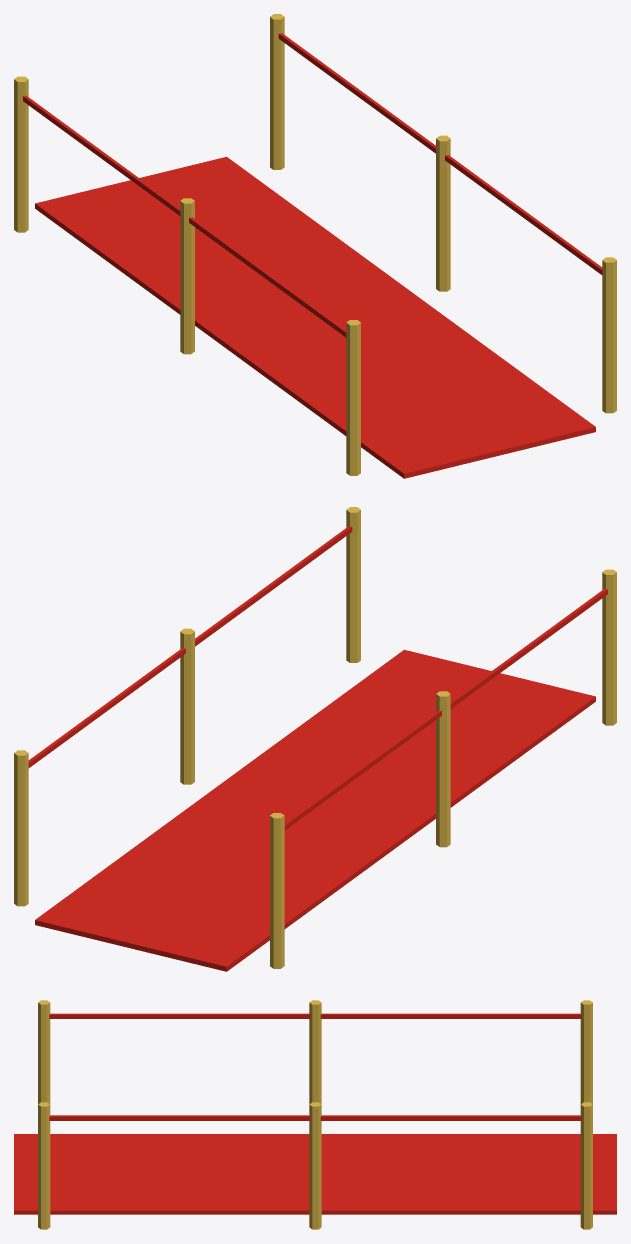
File: red_carpet.fbx
3 views of the same model, one above another, from view 1: azimuth 30°, elevation 25°; view 2: azimuth 150°, elevation 25°; view 3: azimuth 270°, elevation 25° (orthographic). The views are drawn at different scales.
Visible parts, largest first — view 1: red_carpet; view 2: red_carpet; view 3: red_carpet.
Boxes of the visible parts, x1,y1,x2,y2 form: red_carpet: (14,14,616,478); red_carpet: (14,507,616,971); red_carpet: (14,1000,616,1229).
Bounding box in the file's own units: 1.67 × 0.9 × 4.
